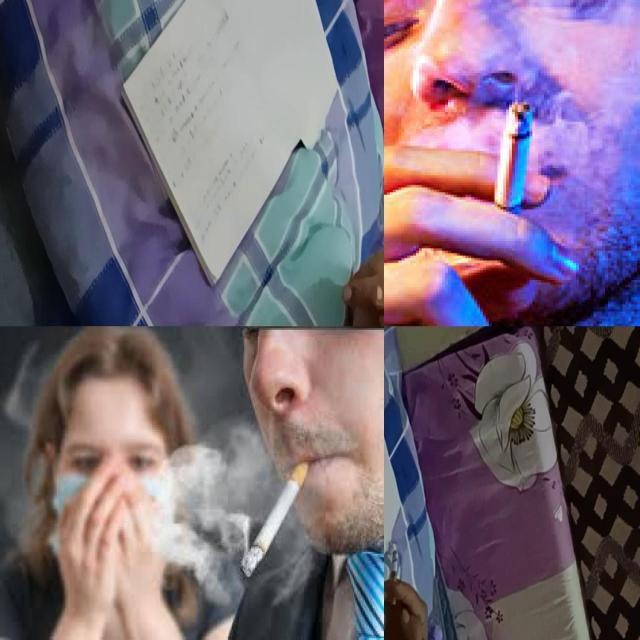smoking: (240, 453, 312, 579), (494, 98, 526, 212), (390, 551, 398, 605)
